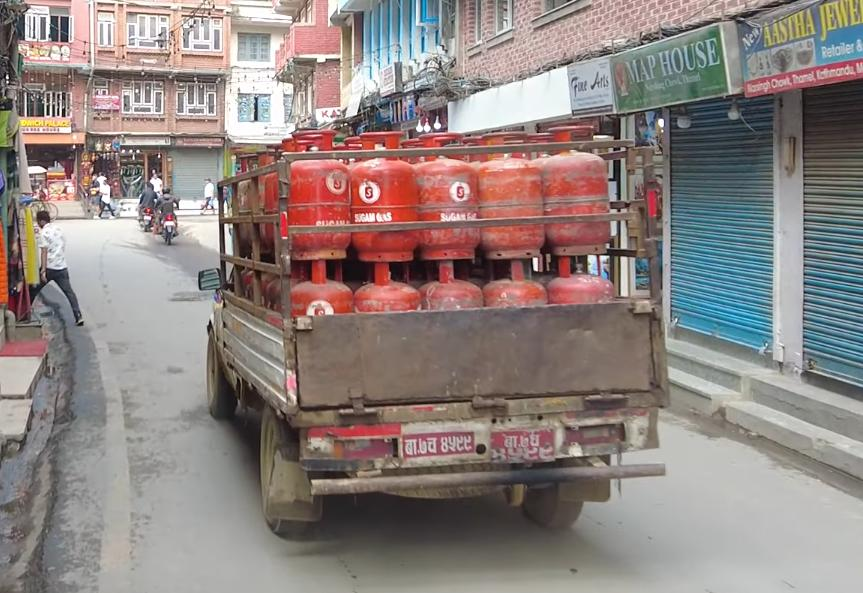bike: (135, 178, 181, 248)
transport_vehicle: (183, 109, 673, 557)
